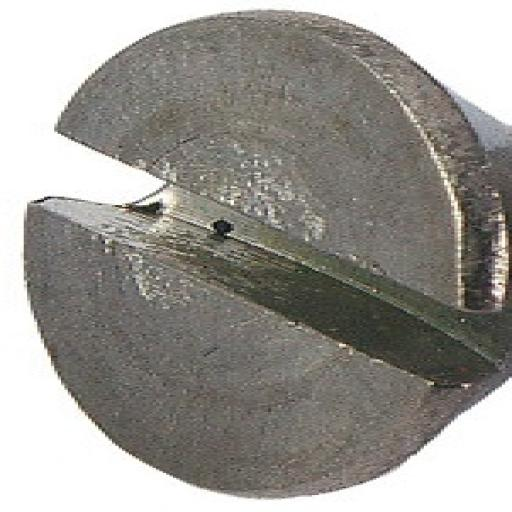Slotted: (0, 0, 509, 509)
